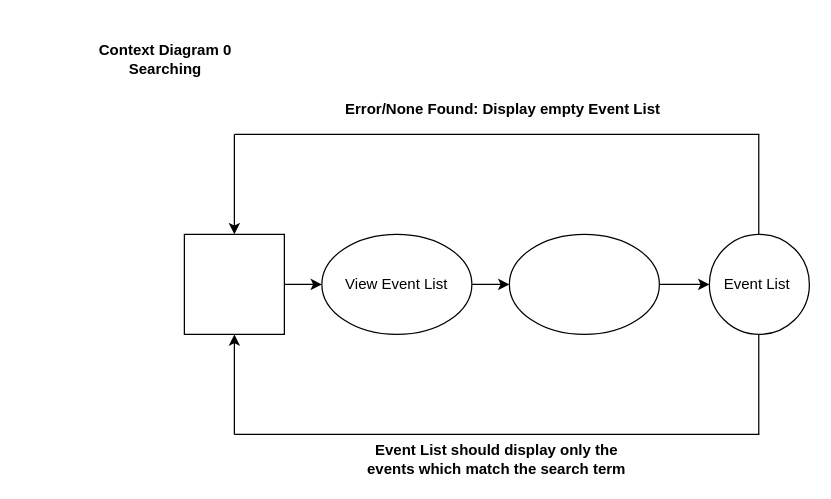
This 831x499 diagram has some shape labels left out. The shapes that lost their labels are listed below. From the top down, each one's box as (x1, y1, x2, y2) in pixels, then its label:
(183, 233, 284, 334): User
(508, 233, 659, 334): Type in Search Term into Search bar
